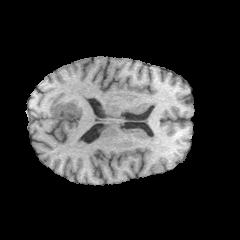glioma: (52, 95, 83, 119)
